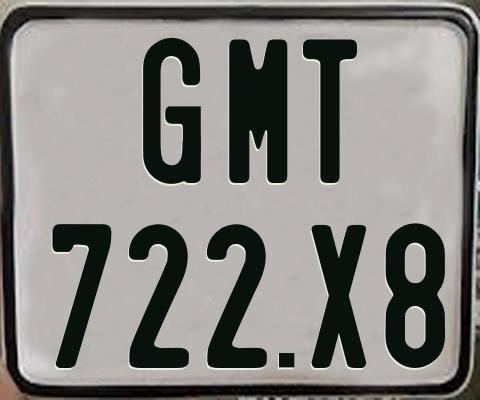2: (129, 223, 195, 370), (207, 224, 268, 374)
7: (51, 222, 111, 368)
8: (384, 220, 449, 367)
G: (143, 35, 203, 185)
M: (228, 38, 287, 188)
T: (300, 38, 359, 185)
X: (311, 222, 366, 371)
